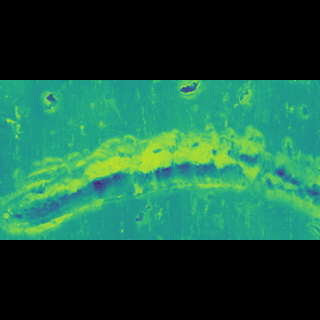Loch: (0, 141, 320, 198), (0, 131, 29, 159), (218, 121, 256, 138), (37, 121, 70, 138), (174, 120, 204, 129)
